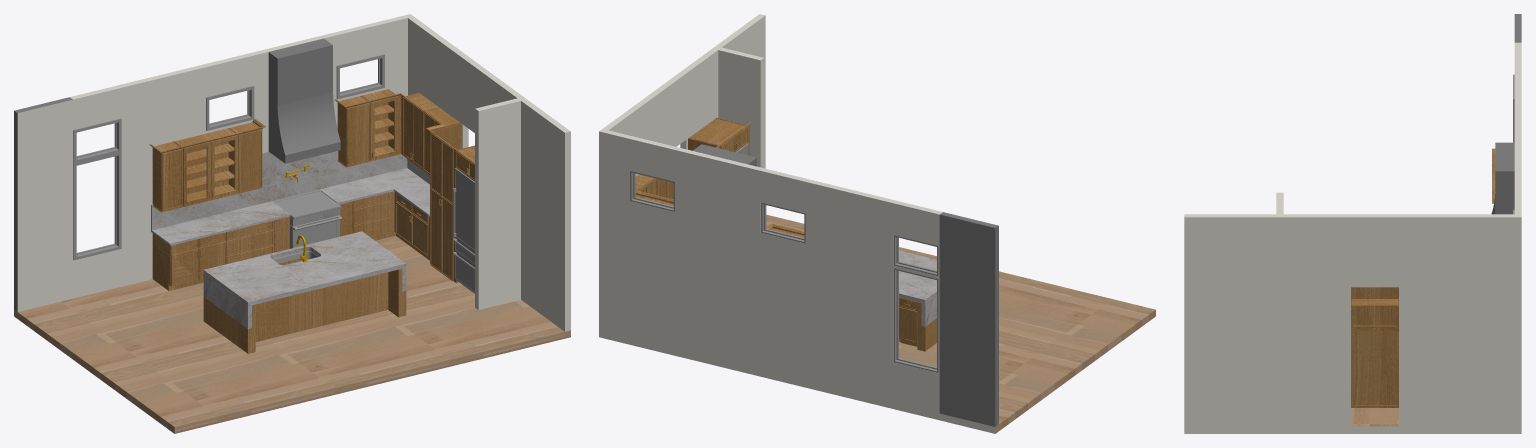
The model's file is samoa-kitchen.glb.
3 views of the same model, side by side, from view 1: azimuth 30°, elevation 25°; view 2: azimuth 150°, elevation 25°; view 3: azimuth 270°, elevation 25° (orthographic). The views are drawn at different scales.
Parts seen in each view (by area): view 1: root, WALL-2, hood, SL-KIT-TOP-21, LP 94 SAMOA Kit Per.dwg, WALL4-2, U301296-10, B42-3, ZHP365ETVSS-6, SL-KIT-TOP-59, SL-KIT-TOP-60, ZIC363IPVRH-18 (+15 smaller); view 2: WALL-2, root, SL-KIT-TOP-21, RW3612-44, WIN-SQ-MUL-WH-30, B15-R-8, LP 94 SAMOA Kit Per.dwg, hood, WIN-SQ-MUL-WH-37, WIN-SQ-MUL-WH-38, WIN-SQ-MUL-WH-39; view 3: WALL-2, root, U301296-10, hood.
Boxes of the visible parts, left/top/right/bottom form: root: left=14, top=97, right=570, bottom=433; WALL-2: left=70, top=14, right=526, bottom=309; hood: left=268, top=38, right=340, bottom=163; SL-KIT-TOP-21: left=203, top=231, right=406, bottom=306; LP 94 SAMOA Kit Per.dwg: left=173, top=92, right=460, bottom=206; WALL4-2: left=256, top=272, right=388, bottom=341; U301296-10: left=430, top=132, right=453, bottom=281; B42-3: left=152, top=232, right=226, bottom=290; ZHP365ETVSS-6: left=272, top=189, right=342, bottom=248; SL-KIT-TOP-59: left=151, top=201, right=290, bottom=245; SL-KIT-TOP-60: left=319, top=168, right=429, bottom=216; ZIC363IPVRH-18: left=452, top=168, right=474, bottom=293; WALL-2: left=599, top=46, right=942, bottom=413; root: left=599, top=14, right=1155, bottom=433; SL-KIT-TOP-21: left=899, top=250, right=936, bottom=303; RW3612-44: left=689, top=118, right=748, bottom=152; WIN-SQ-MUL-WH-30: left=893, top=268, right=938, bottom=372; B15-R-8: left=899, top=297, right=917, bottom=346; LP 94 SAMOA Kit Per.dwg: left=635, top=174, right=804, bottom=237; hood: left=693, top=144, right=756, bottom=166; WIN-SQ-MUL-WH-37: left=893, top=235, right=938, bottom=276; WIN-SQ-MUL-WH-38: left=630, top=170, right=674, bottom=211; WIN-SQ-MUL-WH-39: left=761, top=202, right=805, bottom=243; WALL-2: left=1276, top=42, right=1521, bottom=426; root: left=1184, top=14, right=1521, bottom=433; U301296-10: left=1351, top=287, right=1398, bottom=407; hood: left=1491, top=142, right=1514, bottom=214.
Bounding box in the file's own units: 7.62 × 3.78 × 5.35.
7 materials, 4 textured.
